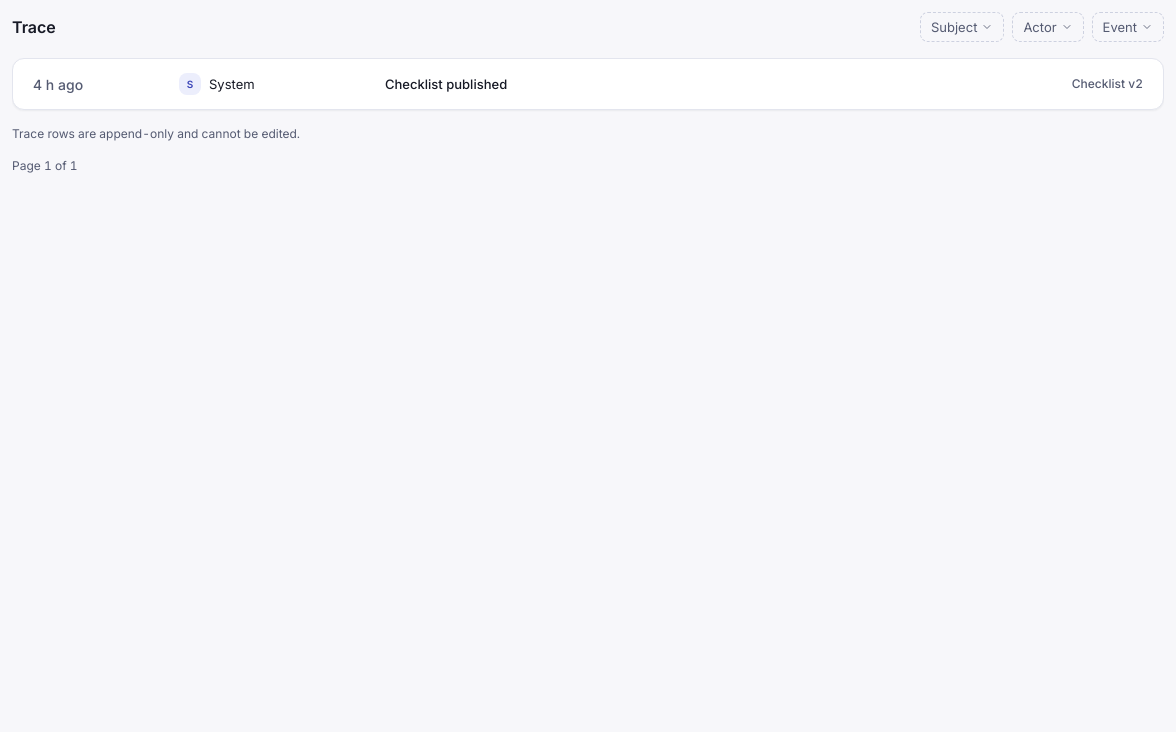
Test: the inspector's sections › a subject without a tab: plain text in the row, no Open link in the inspector
The width and height of the screenshot is (1176, 732).
Click the button "4 h ago S System Checklist published": point(485, 84) [33,59,937,109]
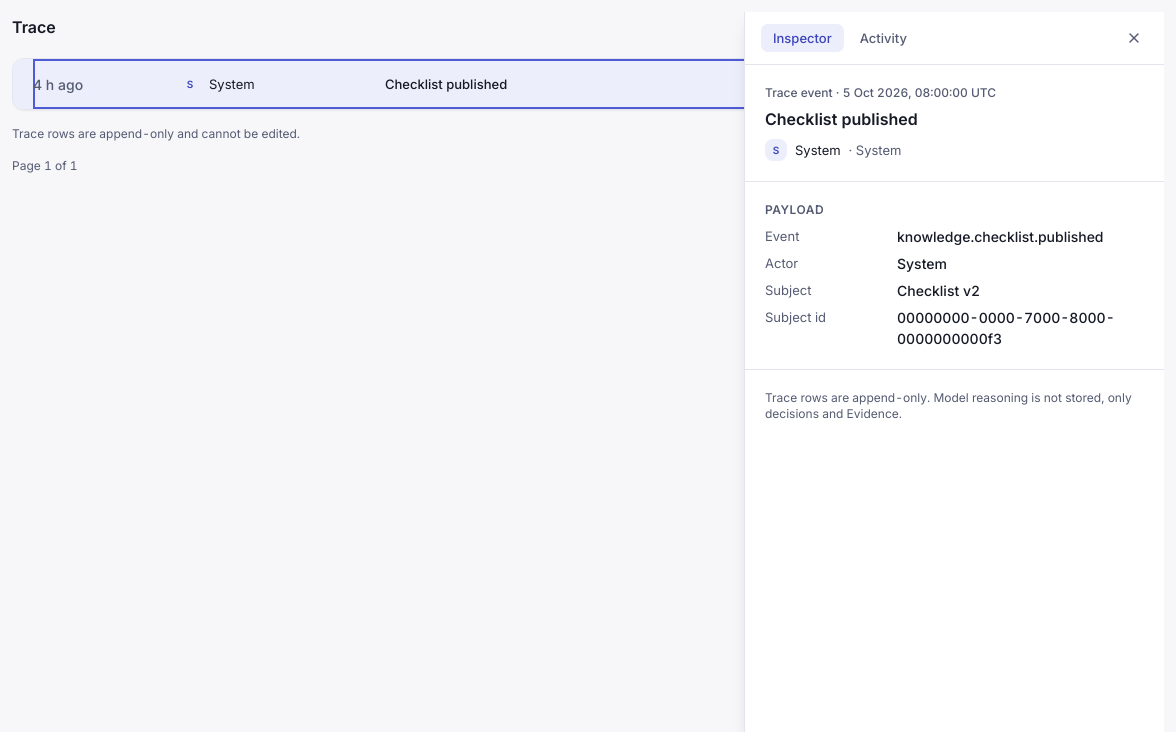
Expected: the text "· System" is shown, [849,140,902,160]
